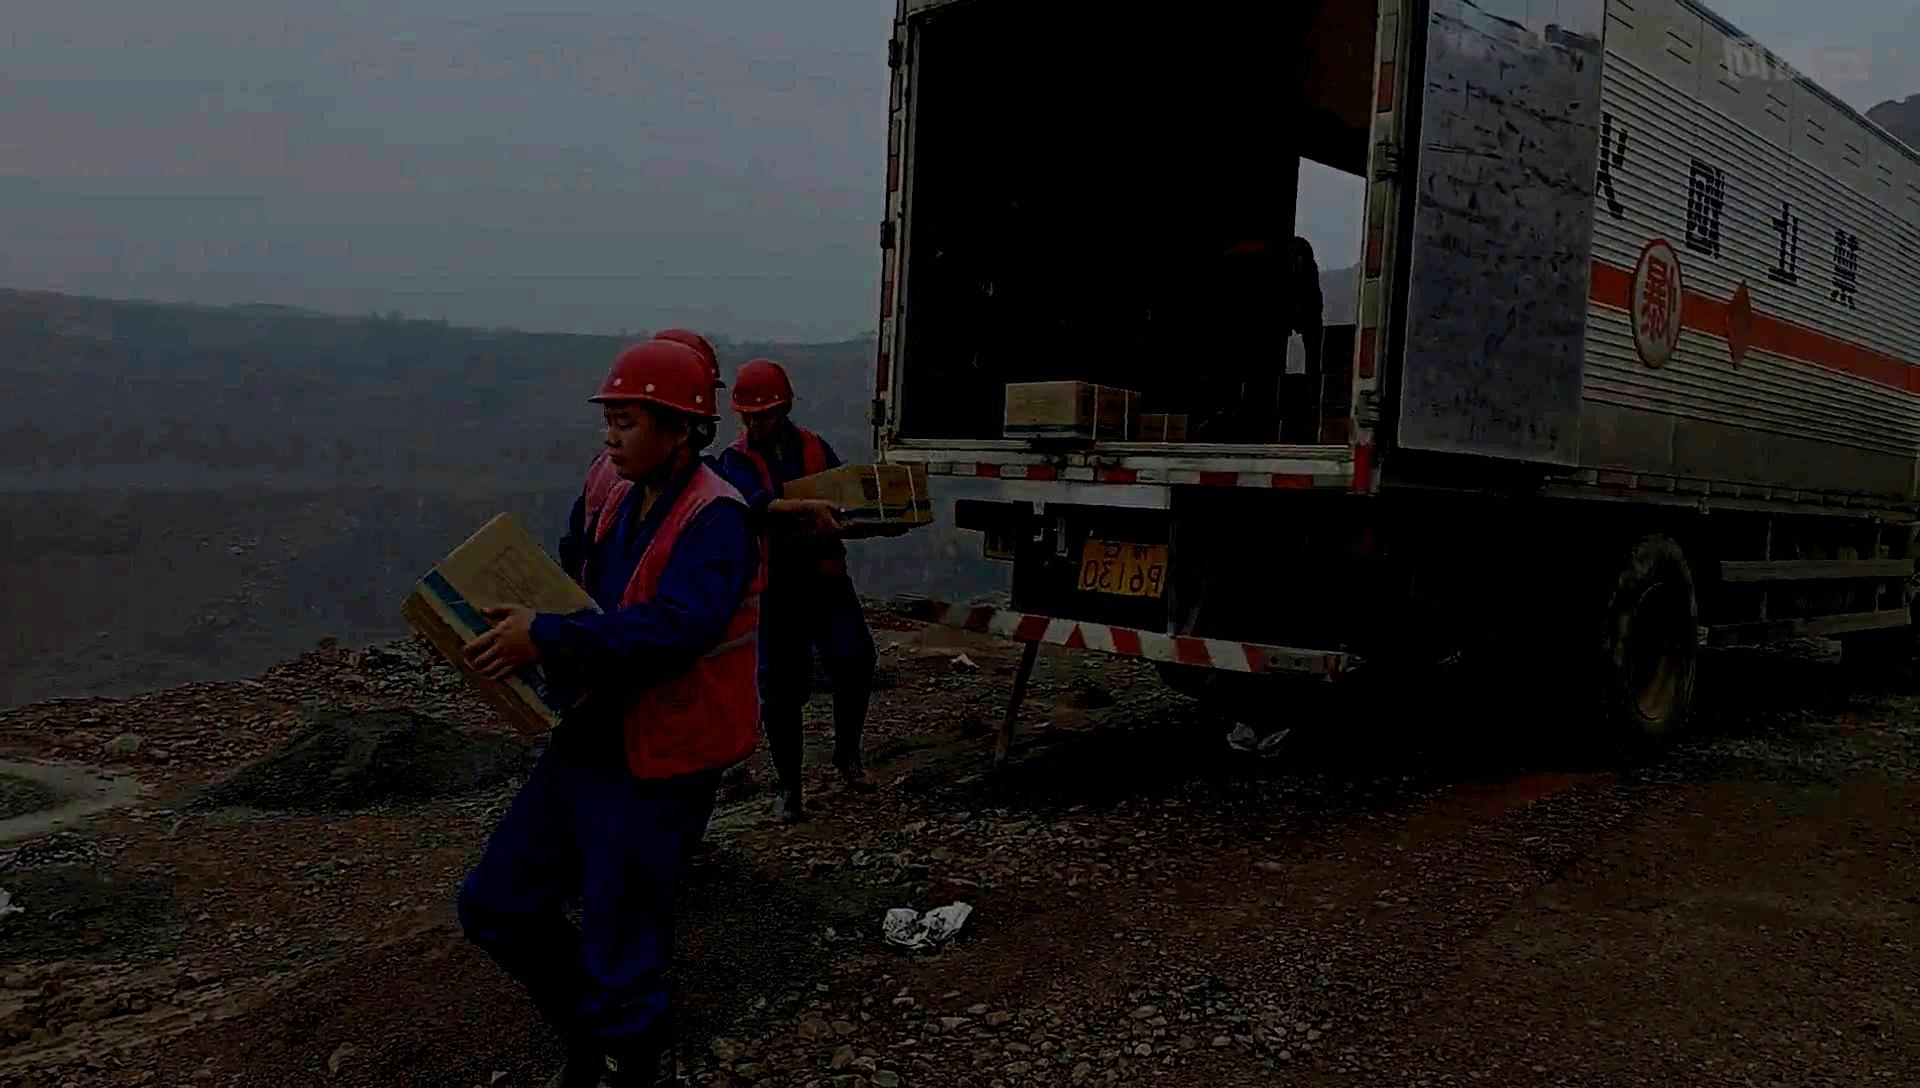helmet: (587, 338, 716, 483), (650, 327, 727, 410), (728, 356, 796, 443)
